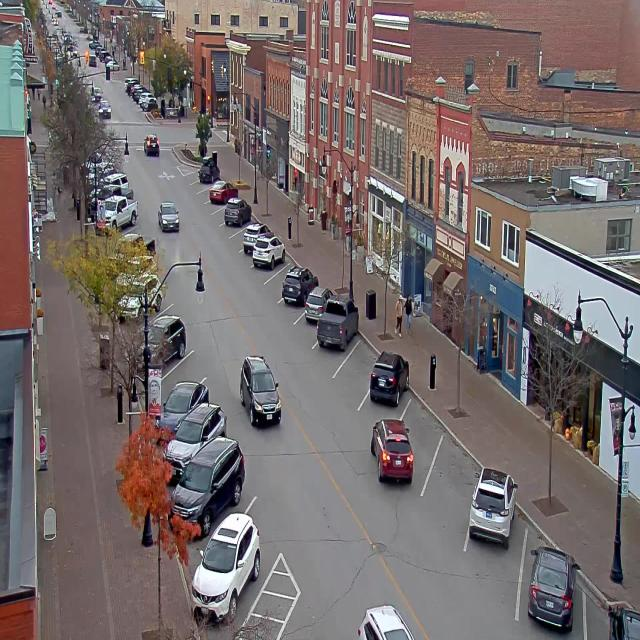available: (432, 436, 481, 512), (400, 390, 444, 467), (341, 333, 378, 392), (160, 344, 211, 384), (268, 260, 290, 294), (227, 225, 247, 250), (211, 203, 227, 225), (186, 165, 202, 184), (196, 186, 208, 205)
occupied: (169, 435, 245, 539), (192, 507, 270, 599), (527, 544, 580, 632), (468, 466, 517, 547), (154, 378, 208, 442), (374, 416, 414, 484), (592, 588, 640, 639), (316, 296, 358, 352), (368, 349, 409, 406), (181, 394, 231, 440), (142, 312, 187, 363), (282, 264, 318, 305), (252, 232, 285, 269), (302, 285, 326, 326), (224, 197, 251, 226), (209, 179, 239, 204), (240, 222, 262, 254), (197, 158, 220, 183)
